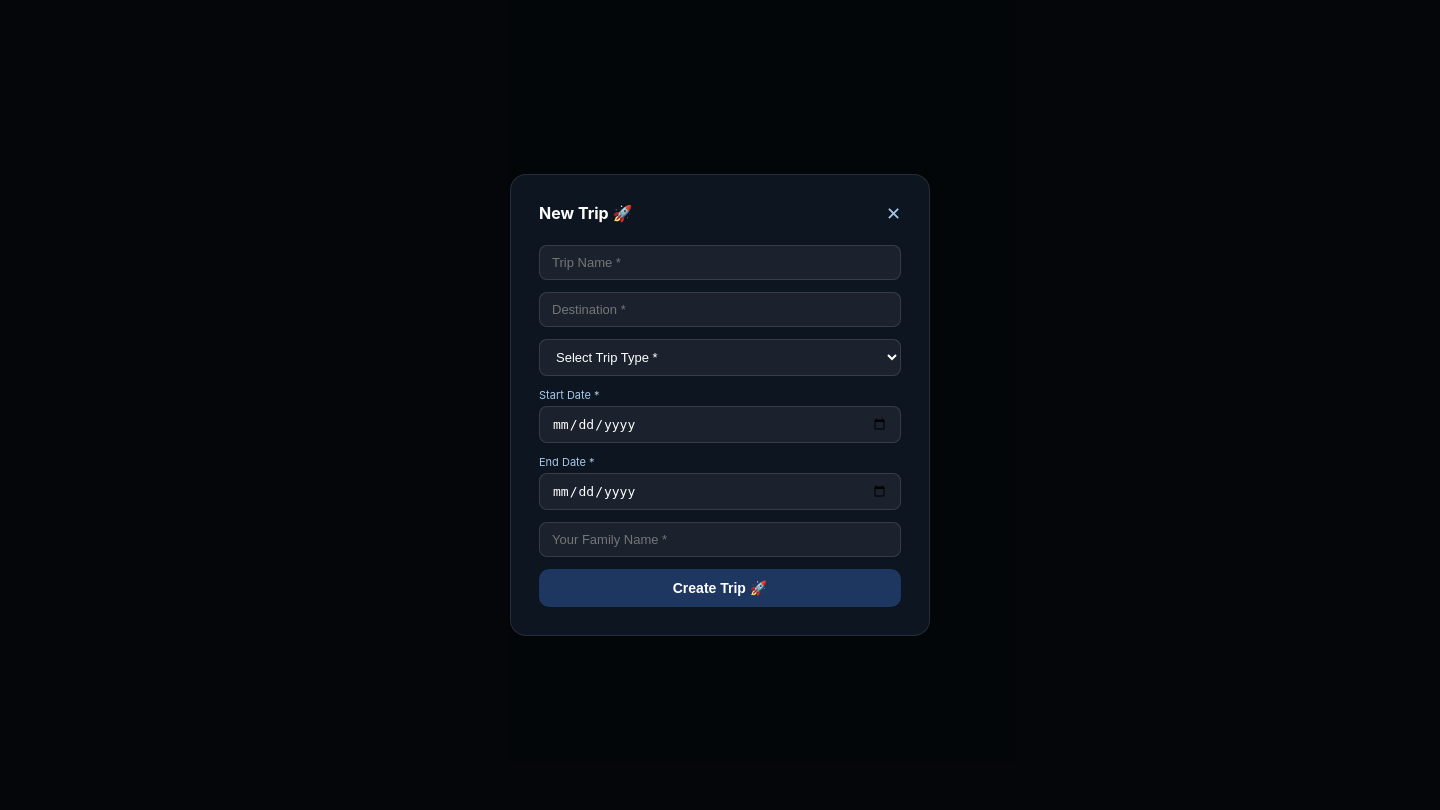
Test: NewTripModal › shows custom type input when Custom is selected
Select "Custom" in the dropdown: (720, 358) [539,339,901,376]
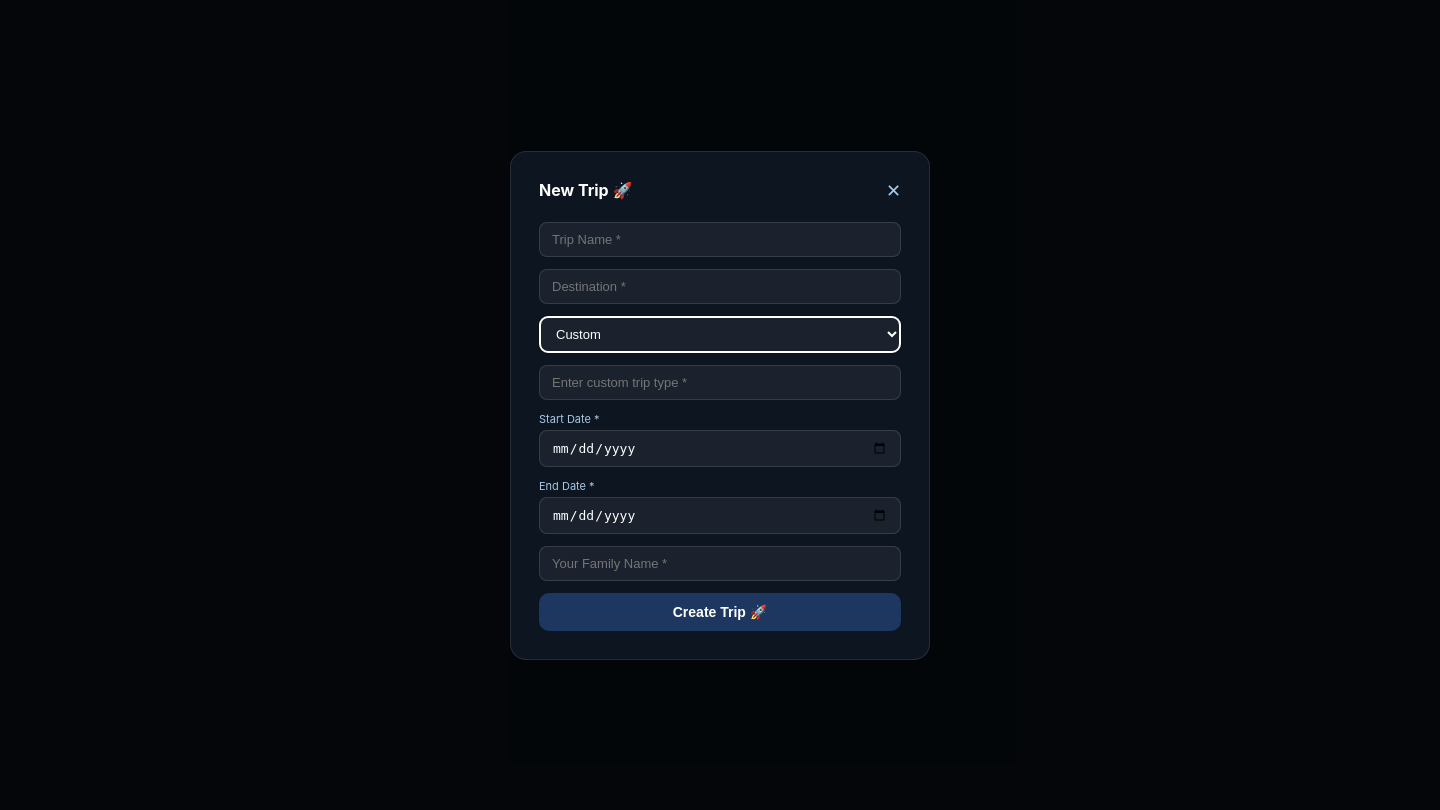
Now the field with placeholder "Enter custom trip type *" is shown, box [539,364,901,400]
